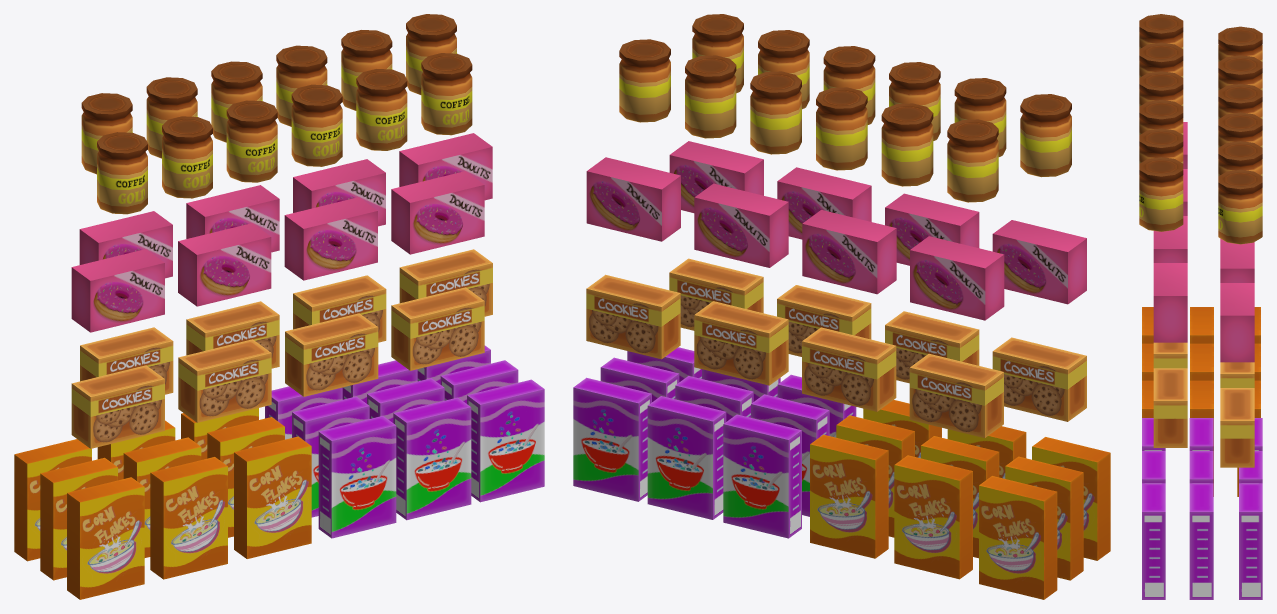
The model's file is CommFoodStuff01_6.FBX.
3 views of the same model, side by side, from view 1: azimuth 30°, elevation 25°; view 2: azimuth 150°, elevation 25°; view 3: azimuth 270°, elevation 25° (orthographic). The views are drawn at different scales.
Visible parts, largest first — view 1: CommFoodStuff01_6; view 2: CommFoodStuff01_6; view 3: CommFoodStuff01_6.
Boxes of the visible parts, x1,y1,x2,y2 form: CommFoodStuff01_6: (14, 14, 544, 599); CommFoodStuff01_6: (573, 14, 1110, 599); CommFoodStuff01_6: (1139, 14, 1262, 599).
Size of what is drawn, in the model's own units: 1.88 by 1.69 by 0.4788.
